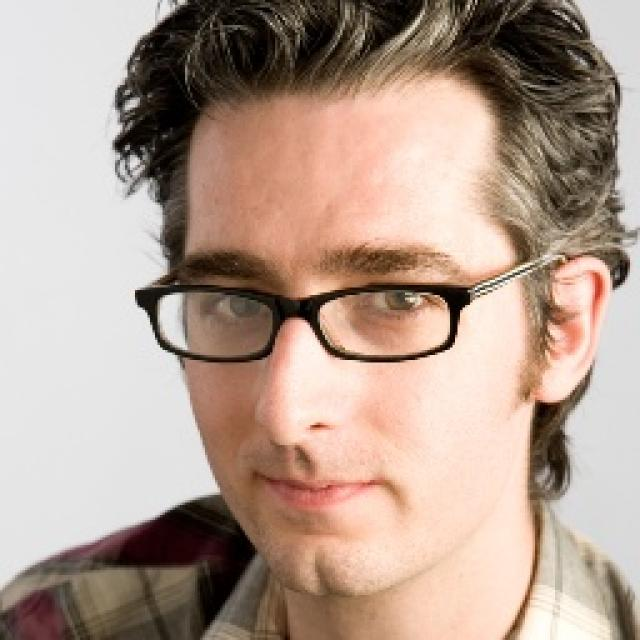earlobe: (534, 256, 613, 404)
